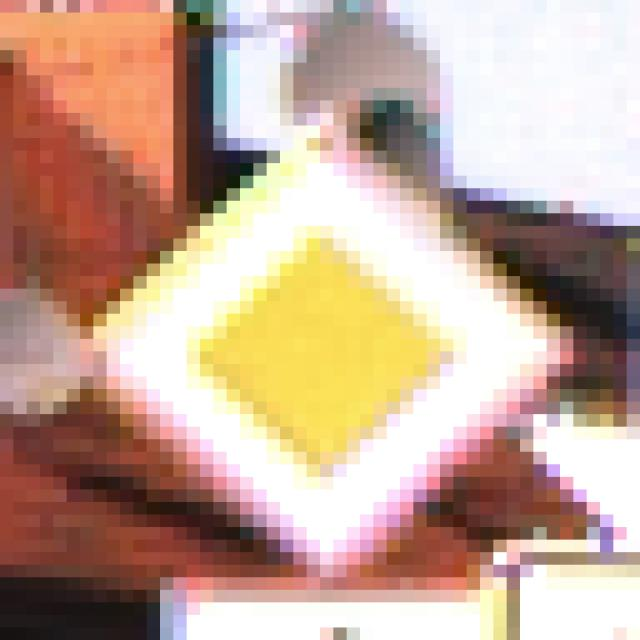Main Road: (68, 77, 574, 579)
